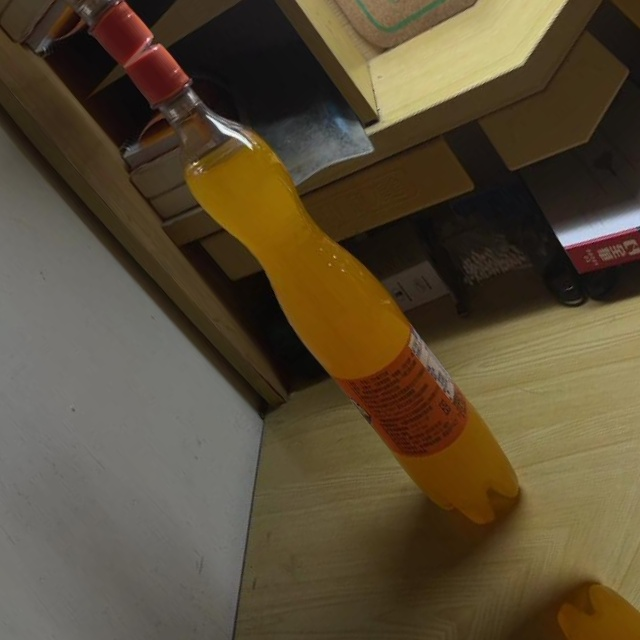Fanta: (90, 28, 549, 546)
